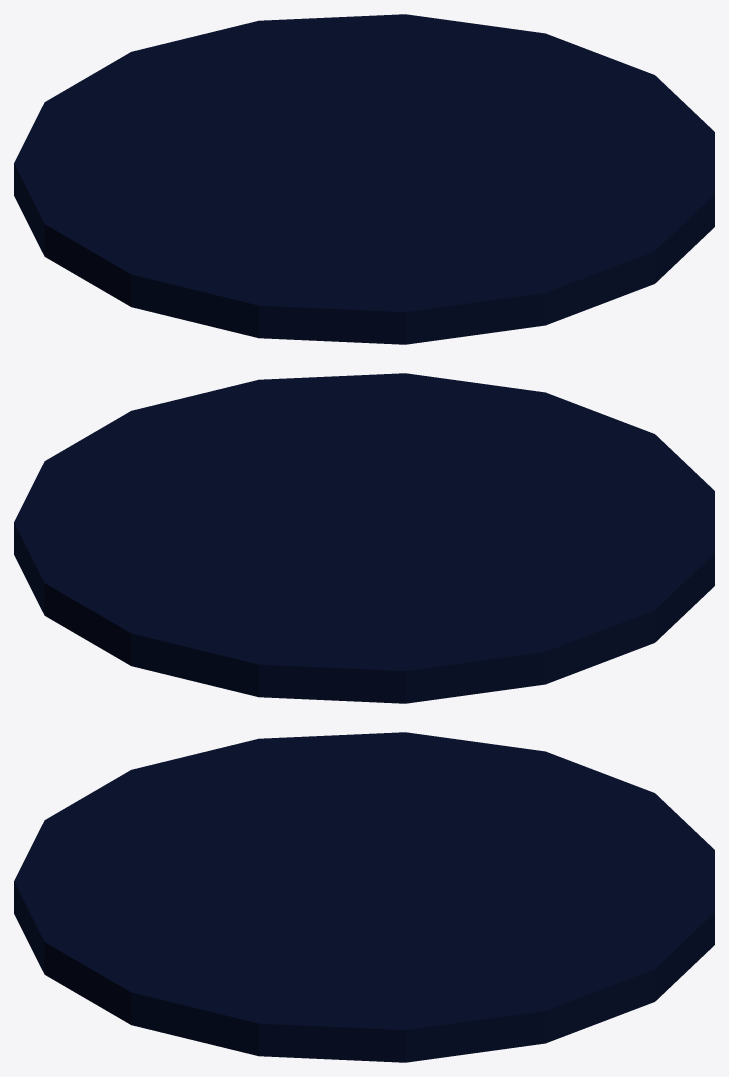
Rendered from lamp(1).fbx.
3 renders of one model, top to bottom at view 1: azimuth 30°, elevation 25°; view 2: azimuth 150°, elevation 25°; view 3: azimuth 270°, elevation 25°, orthographic.
Visible parts, largest first — view 1: Circle; view 2: Circle; view 3: Circle.
Boxes of the visible parts, box(x1,y1,x2,y2) form: Circle: box(14, 14, 714, 344); Circle: box(14, 373, 714, 703); Circle: box(14, 732, 714, 1062).
Size of the model in its own units: 199 by 33.08 by 198.
